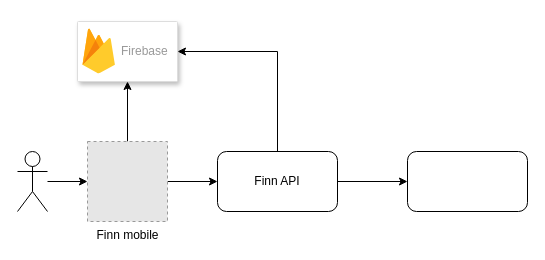
Some shapes in this 545 by 260 pixel diagram are drawn without their labels. Grey dashed boxes stand in for pictures. Here are the shapes that lost their labels. From the top down, the centre of each, then its label:
the point at 32,181: Actor
the point at 467,181: OpenAI
